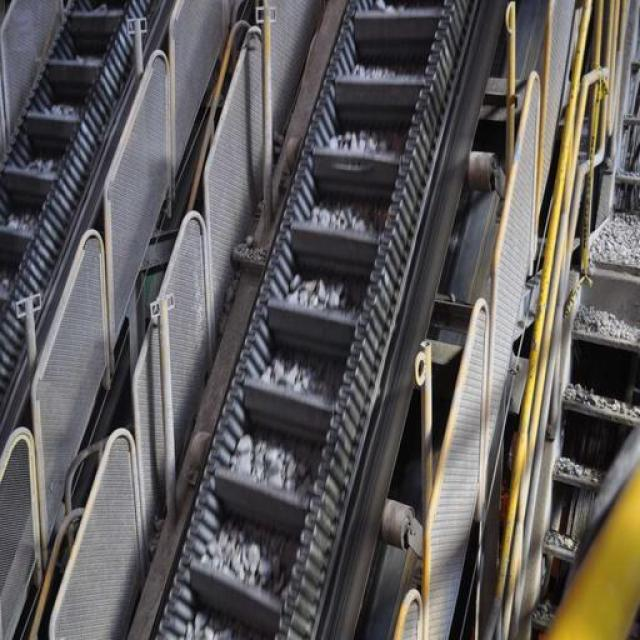conveyor: (130, 0, 473, 640), (1, 0, 135, 429)
